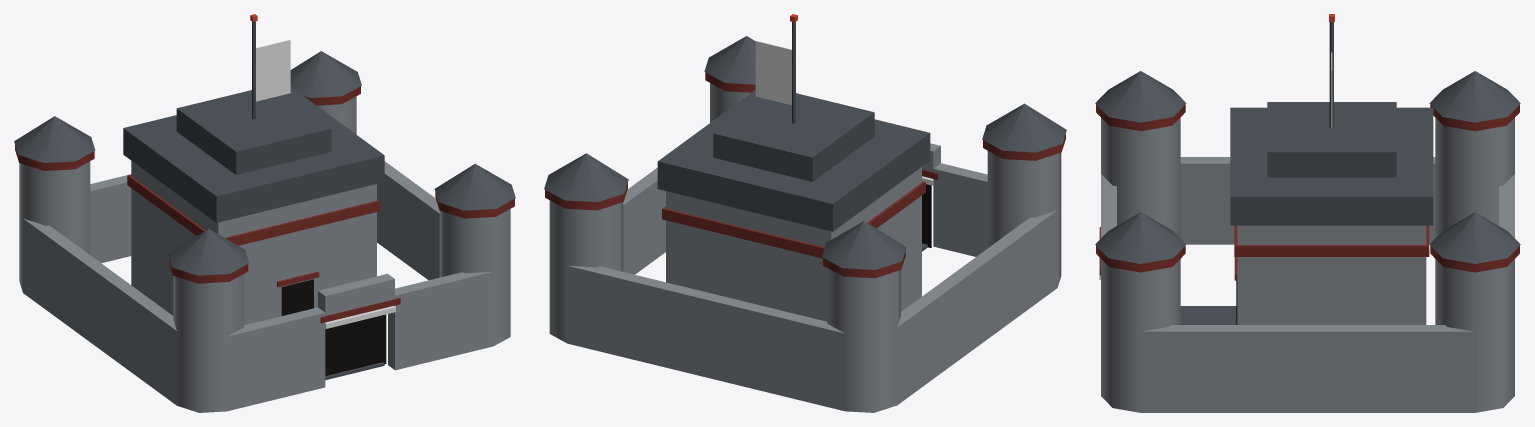
3 views of the same model, side by side, from view 1: azimuth 30°, elevation 25°; view 2: azimuth 150°, elevation 25°; view 3: azimuth 270°, elevation 25° (orthographic). The views are drawn at different scales.
Parts seen in each view (by area): view 1: garde_building_bastion; view 2: garde_building_bastion; view 3: garde_building_bastion.
Boxes of the visible parts, x1,y1,x2,y2 form: garde_building_bastion: (14,14,515,412); garde_building_bastion: (544,14,1066,412); garde_building_bastion: (1095,14,1520,412).
Bounding box in the file's own units: 21.4 × 17.2 × 21.4.
